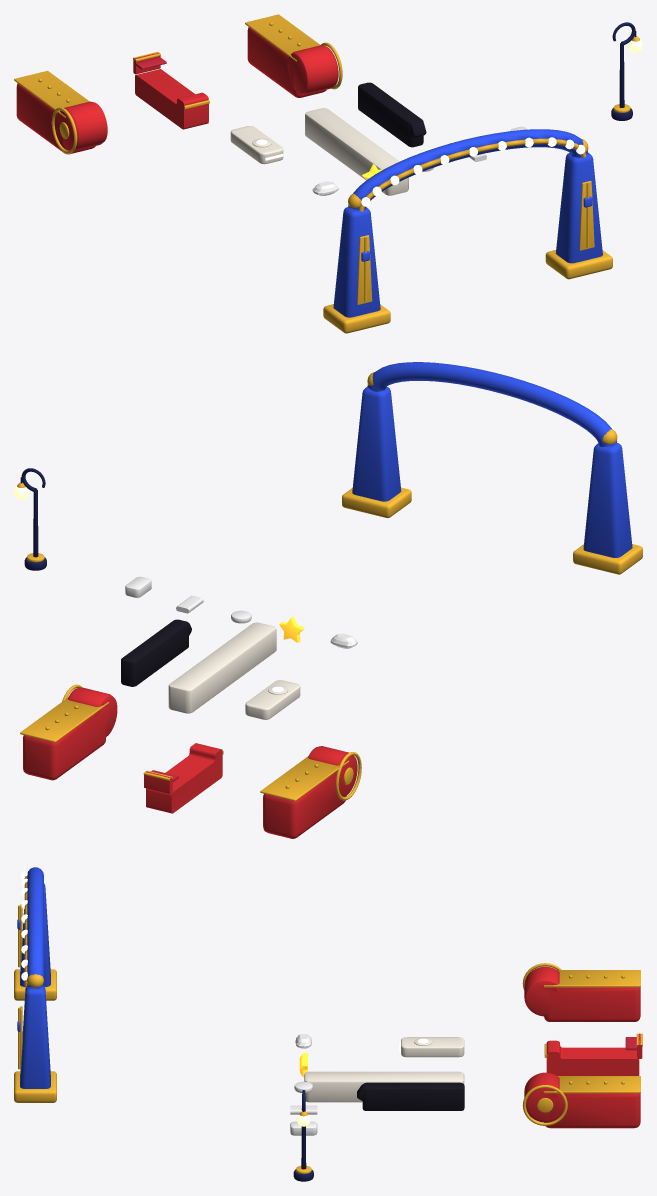
File: stage-kit.glb
3 renders of one model, top to bottom at view 1: azimuth 30°, elevation 25°; view 2: azimuth 150°, elevation 25°; view 3: azimuth 270°, elevation 25°, orthographic. The views are drawn at different scales.
Visible parts, largest first — view 1: BarArch Arch Paint, BarArch Arch Trim, Keybed_Right Cabinet Lacquer, WhiteKey Key Ivory, Keybed_Left Cabinet Lacquer, Keybed_Mid Cabinet Lacquer, BlackKey Key Ebony, Keybed_Left Cabinet Trim, Keybed_Right Cabinet Trim, LanePad Pad Ivory, BarArch Arch Bulb Glow, RoadLamp Lamp Metal; view 2: BarArch Arch Paint, WhiteKey Key Ivory, Keybed_Right Cabinet Lacquer, Keybed_Left Cabinet Lacquer, Keybed_Mid Cabinet Lacquer, BarArch Arch Trim, BlackKey Key Ebony, Keybed_Left Cabinet Trim, Keybed_Right Cabinet Trim, LanePad Pad Ivory, RoadLamp Lamp Metal; view 3: BarArch Arch Paint, Keybed_Left Cabinet Lacquer, Keybed_Right Cabinet Lacquer, BlackKey Key Ebony, WhiteKey Key Ivory, Keybed_Mid Cabinet Lacquer, BarArch Arch Trim, Keybed_Right Cabinet Trim, Keybed_Left Cabinet Trim, LanePad Pad Ivory, RoadLamp Lamp Metal.
Boxes of the visible parts, x1,y1,x2,y2 form: BarArch Arch Paint: (333, 129, 602, 317); BarArch Arch Trim: (323, 138, 612, 333); Keybed_Right Cabinet Lacquer: (247, 27, 338, 97); WhiteKey Key Ivory: (305, 108, 408, 195); Keybed_Left Cabinet Lacquer: (16, 83, 107, 154); Keybed_Mid Cabinet Lacquer: (133, 52, 208, 129); BlackKey Key Ebony: (358, 82, 426, 147); Keybed_Left Cabinet Trim: (14, 71, 89, 153); Keybed_Right Cabinet Trim: (245, 14, 342, 89); LanePad Pad Ivory: (230, 126, 283, 164); BarArch Arch Bulb Glow: (361, 137, 585, 206); RoadLamp Lamp Metal: (611, 22, 636, 120); BarArch Arch Paint: (352, 362, 632, 557); WhiteKey Key Ivory: (168, 622, 276, 713); Keybed_Right Cabinet Lacquer: (23, 687, 117, 780); Keybed_Left Cabinet Lacquer: (263, 746, 357, 838); Keybed_Mid Cabinet Lacquer: (144, 743, 222, 813); BarArch Arch Trim: (342, 372, 642, 574); BlackKey Key Ebony: (121, 619, 191, 686); Keybed_Left Cabinet Trim: (260, 752, 361, 801); Keybed_Right Cabinet Trim: (20, 684, 108, 742); LanePad Pad Ivory: (245, 680, 300, 719); RoadLamp Lamp Metal: (20, 468, 46, 570); BarArch Arch Paint: (20, 867, 50, 1088); Keybed_Left Cabinet Lacquer: (524, 966, 640, 1021); Keybed_Right Cabinet Lacquer: (524, 1072, 640, 1128); BlackKey Key Ebony: (357, 1082, 464, 1110); WhiteKey Key Ivory: (304, 1071, 464, 1102); Keybed_Mid Cabinet Lacquer: (546, 1033, 642, 1075); BarArch Arch Trim: (14, 876, 56, 1102); Keybed_Right Cabinet Trim: (522, 1076, 640, 1125); Keybed_Left Cabinet Trim: (522, 963, 640, 990); LanePad Pad Ivory: (401, 1037, 464, 1057); RoadLamp Lamp Metal: (293, 1090, 313, 1181).
Bounding box in the file's own units: 18.26 × 7.21 × 23.44.
